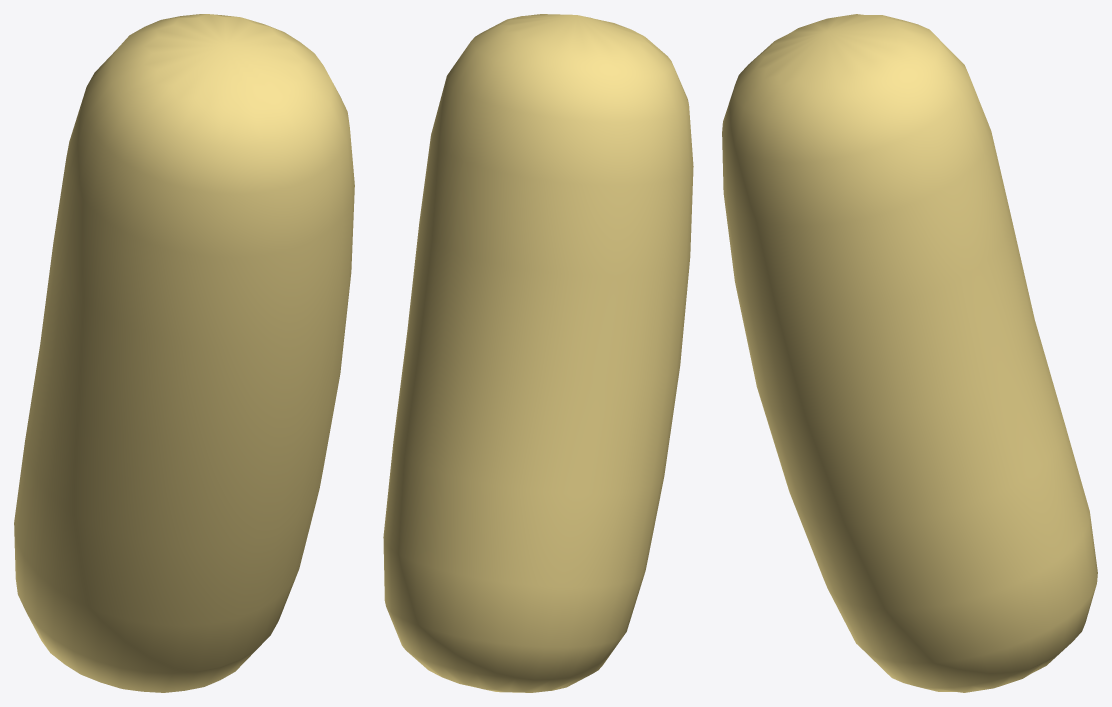
3 renders of one model, left to right at view 1: azimuth 30°, elevation 25°; view 2: azimuth 150°, elevation 25°; view 3: azimuth 270°, elevation 25°, orthographic. The views are drawn at different scales.
Visible parts, largest first — view 1: ZA_05560374e3318592; view 2: ZA_05560374e3318592; view 3: ZA_05560374e3318592.
Boxes of the visible parts, x1,y1,x2,y2 form: ZA_05560374e3318592: [14, 14, 354, 692]; ZA_05560374e3318592: [383, 14, 693, 692]; ZA_05560374e3318592: [722, 14, 1097, 692].
Bounding box in the file's own units: 0.00517 × 0.0129 × 0.00681.
